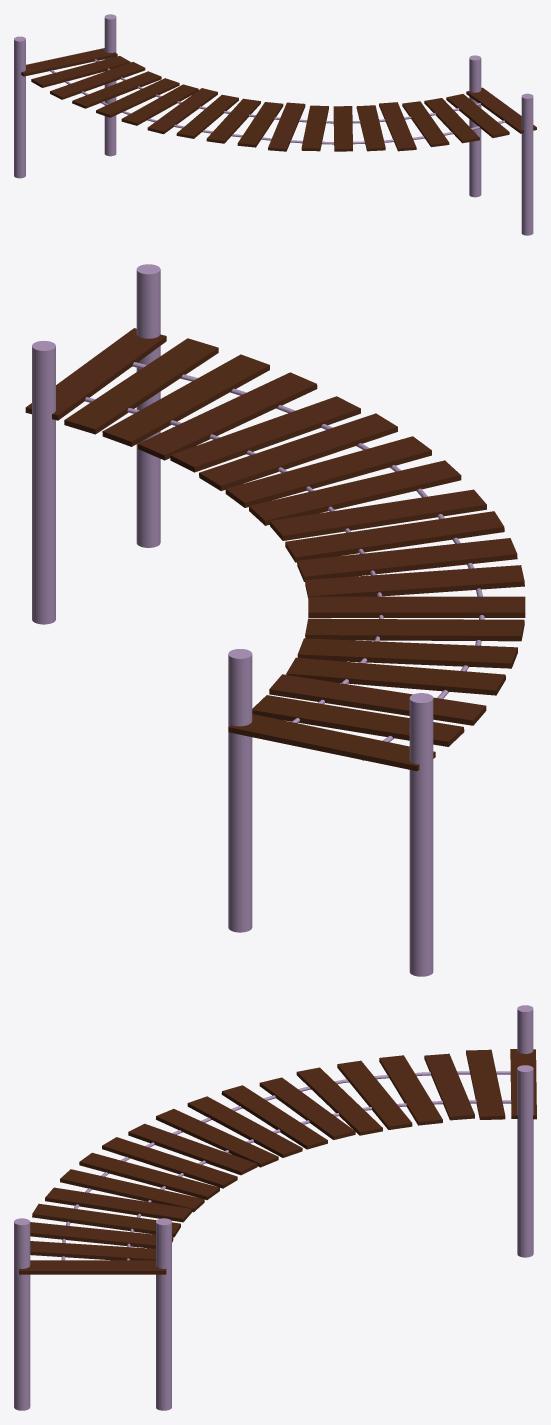
Rendered from curvedVridgeNoRail.fbx.
The picture shows the model from 3 angles, top to bottom: view 1: azimuth 30°, elevation 25°; view 2: azimuth 150°, elevation 25°; view 3: azimuth 270°, elevation 25°; orthographic projection. The views are drawn at different scales.
Parts seen in each view (by area): view 1: Cube.007; view 2: Cube.007; view 3: Cube.007.
Boxes of the visible parts, x1,y1,x2,y2 form: Cube.007: [14, 14, 536, 235]; Cube.007: [25, 264, 525, 976]; Cube.007: [14, 1005, 536, 1410].
Size of the model in its own units: 259 by 101 by 258.
